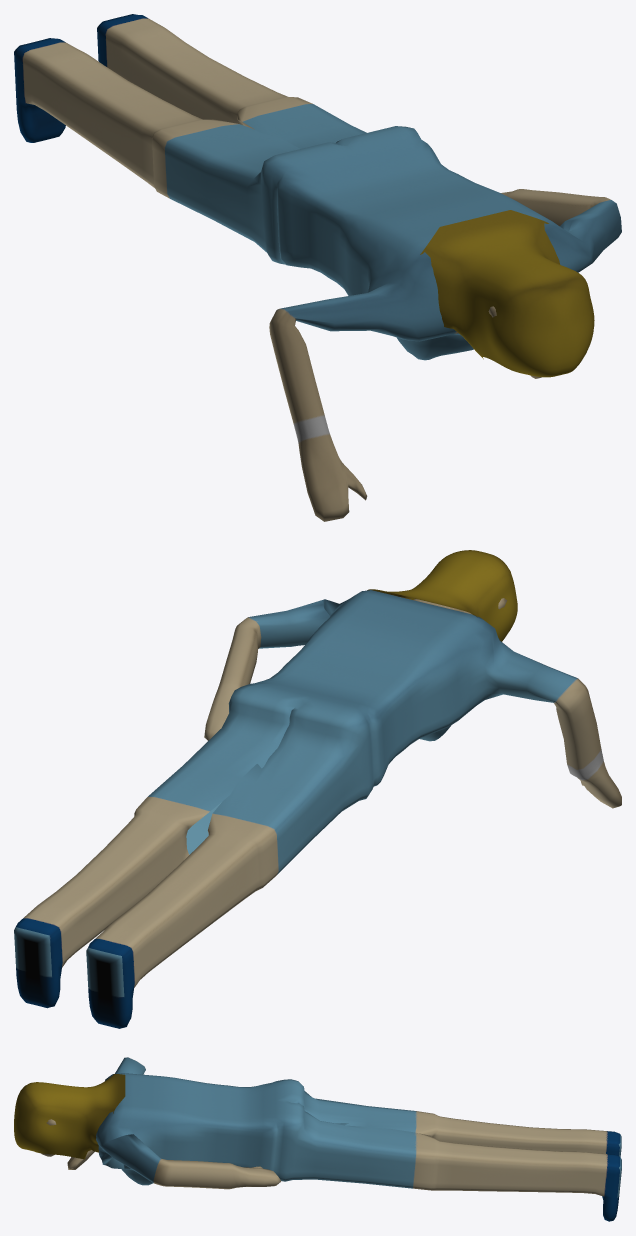
File: mother.obj
The picture shows the model from 3 angles, top to bottom: view 1: azimuth 30°, elevation 25°; view 2: azimuth 150°, elevation 25°; view 3: azimuth 270°, elevation 25°; orthographic projection. The views are drawn at different scales.
Visible parts, largest first — view 1: mother; view 2: mother; view 3: mother.
Part boxes in pixels (x1,y1,x2,y2): mother: (14, 14, 621, 521); mother: (14, 550, 621, 1028); mother: (14, 1057, 621, 1221).
Size of the model in its own units: 44.74 by 25.71 by 102.
Materials: 1 (1 with a texture image).
